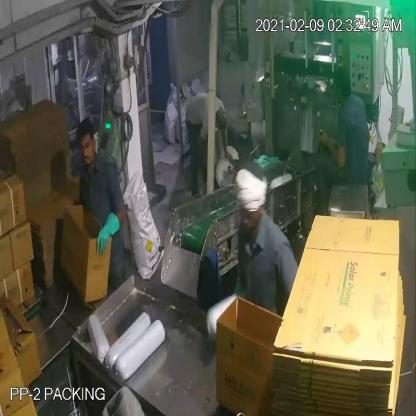glove: (86, 201, 124, 263)
no_glove: (317, 118, 349, 180)
